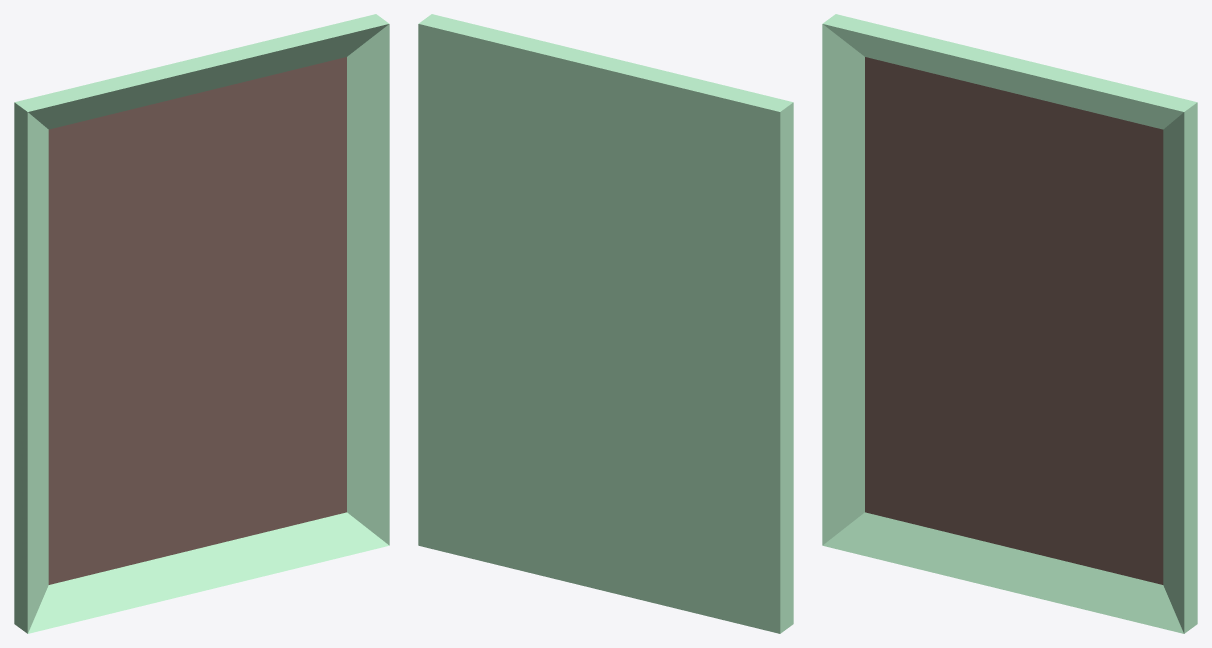
File: pictureKyoto.glb
3 views of the same model, side by side, from view 1: azimuth 30°, elevation 25°; view 2: azimuth 150°, elevation 25°; view 3: azimuth 330°, elevation 25° (orthographic).
Parts seen in each view (by area): view 1: picture; view 2: picture; view 3: picture.
Part boxes in pixels (x1,y1,x2,y2): picture: (14, 14, 389, 633); picture: (418, 14, 793, 633); picture: (822, 14, 1197, 633).
Bounding box in the file's own units: 0.2425 × 0.3343 × 0.0156.
